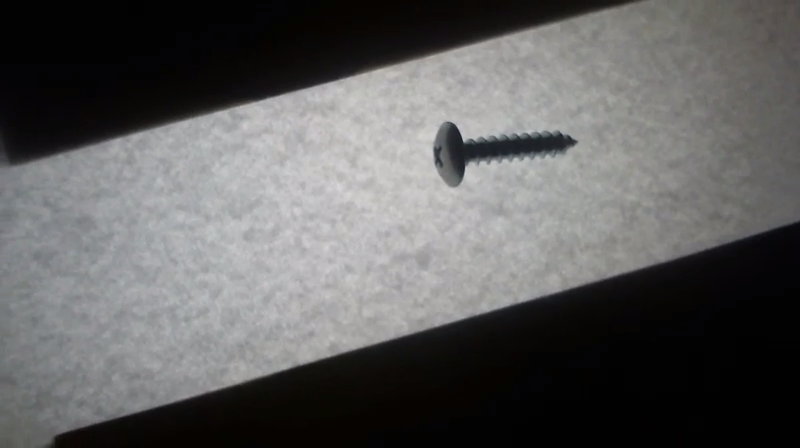S003: (429, 119, 582, 189)
